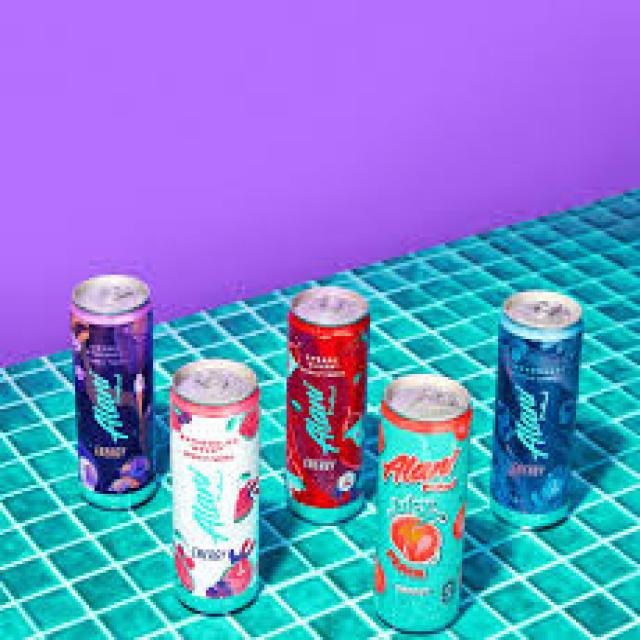Cans: (161, 354, 273, 610), (376, 371, 473, 634), (487, 280, 587, 534), (276, 281, 376, 523), (61, 266, 159, 508)
